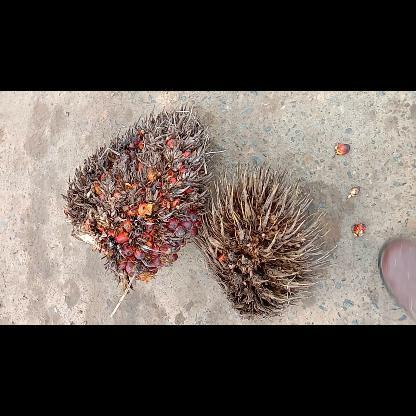Janjang kosong: (191, 161, 337, 318)
Terlalu masak: (60, 104, 214, 314)
